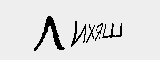И: (69, 19, 87, 47)
Л: (29, 15, 66, 54)
Х: (83, 20, 97, 44)
Ш: (100, 19, 125, 39)
Я: (93, 19, 103, 45)
